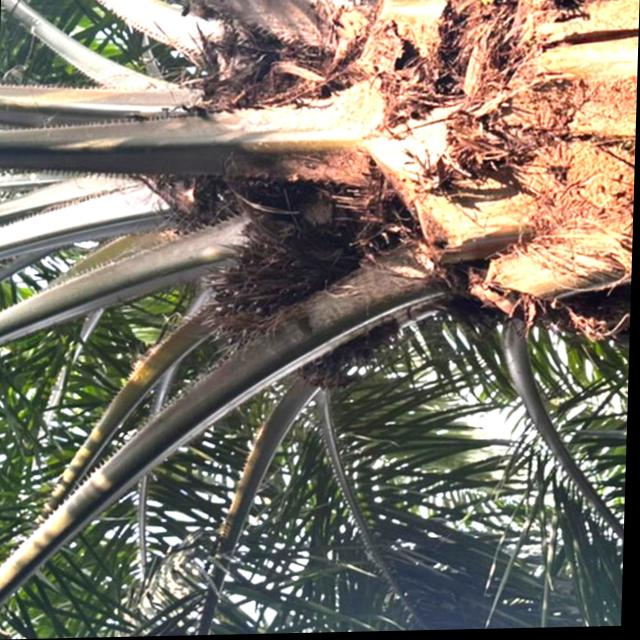ripe: (191, 202, 383, 371)
